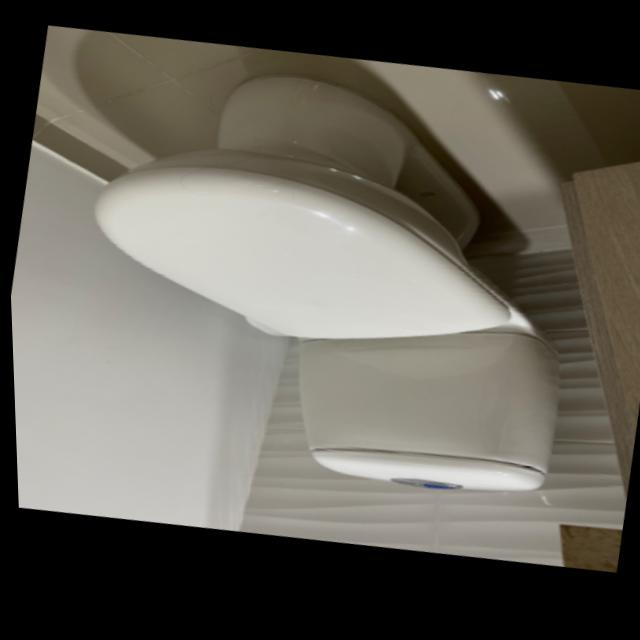toilet: (45, 31, 610, 535)
